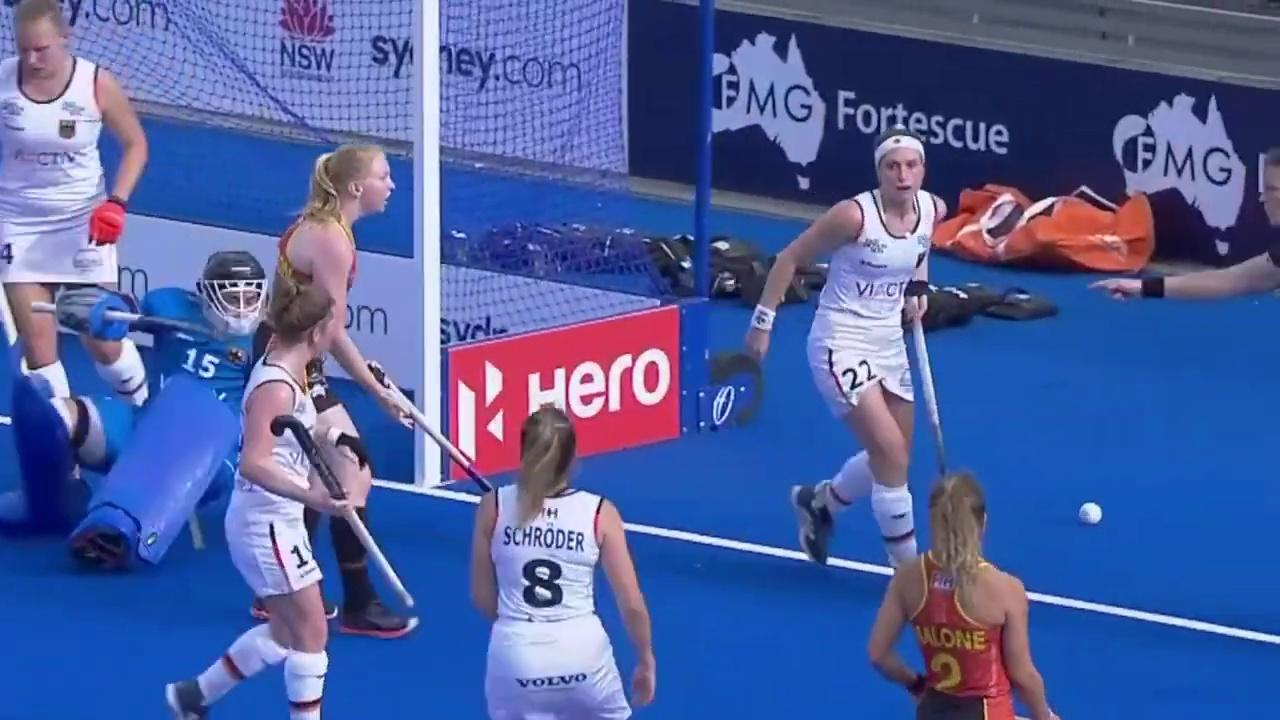ball: (1057, 492, 1118, 532)
